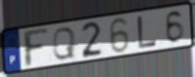2: (79, 20, 105, 60)
6: (109, 16, 131, 55), (164, 9, 186, 45)
F: (20, 27, 50, 69)
L: (136, 15, 159, 50)
Q: (51, 26, 77, 62)
